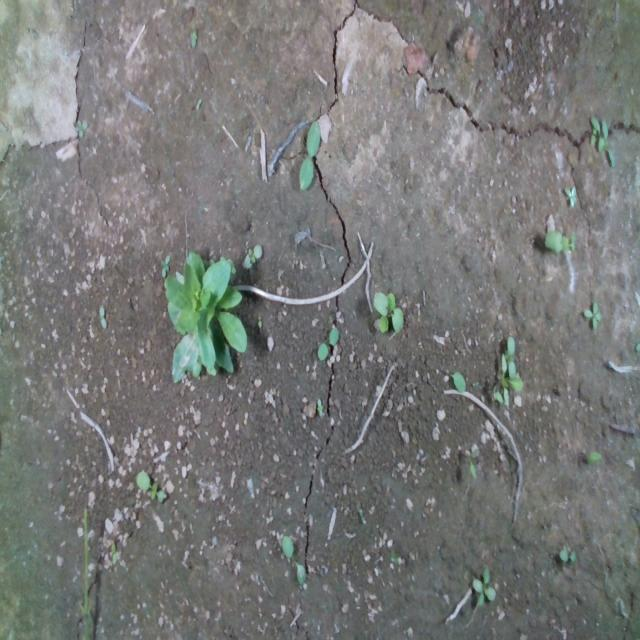weed: (298, 119, 320, 190), (371, 288, 404, 334), (471, 563, 496, 607), (134, 469, 166, 503), (316, 325, 339, 359), (582, 300, 602, 332), (241, 241, 263, 269), (558, 542, 577, 563), (562, 183, 577, 208), (160, 252, 170, 278), (98, 303, 106, 330)
